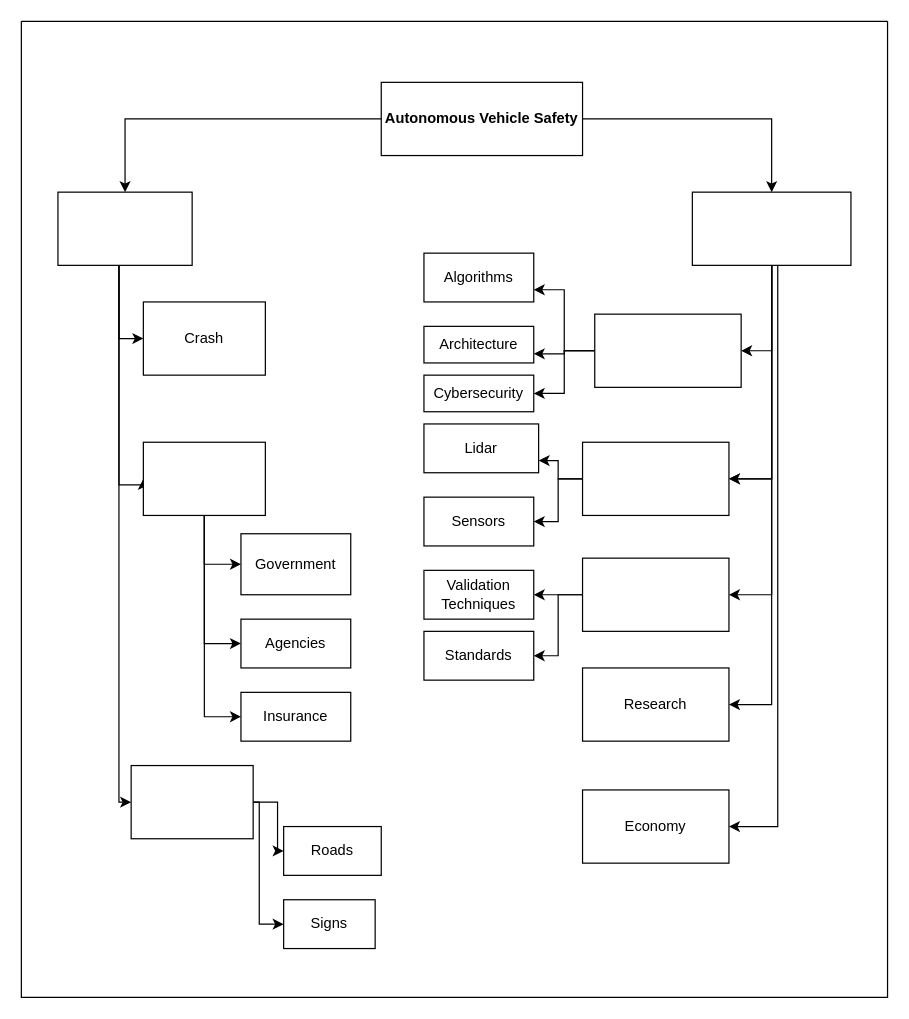
The diagram is 909 pixels wide and 1019 high, and some of its shapes have lost their labels. Each missing label, with the centre of its shape:
"Hardware" belongs at point 655,478.
"Infrastructure" belongs at point 191,801.
"Regulations" belongs at point 203,478.
"Safety" belongs at point 124,228.
"Software" belongs at point 667,350.
"Technology" belongs at point 771,228.
"Testing" belongs at point 655,594.
